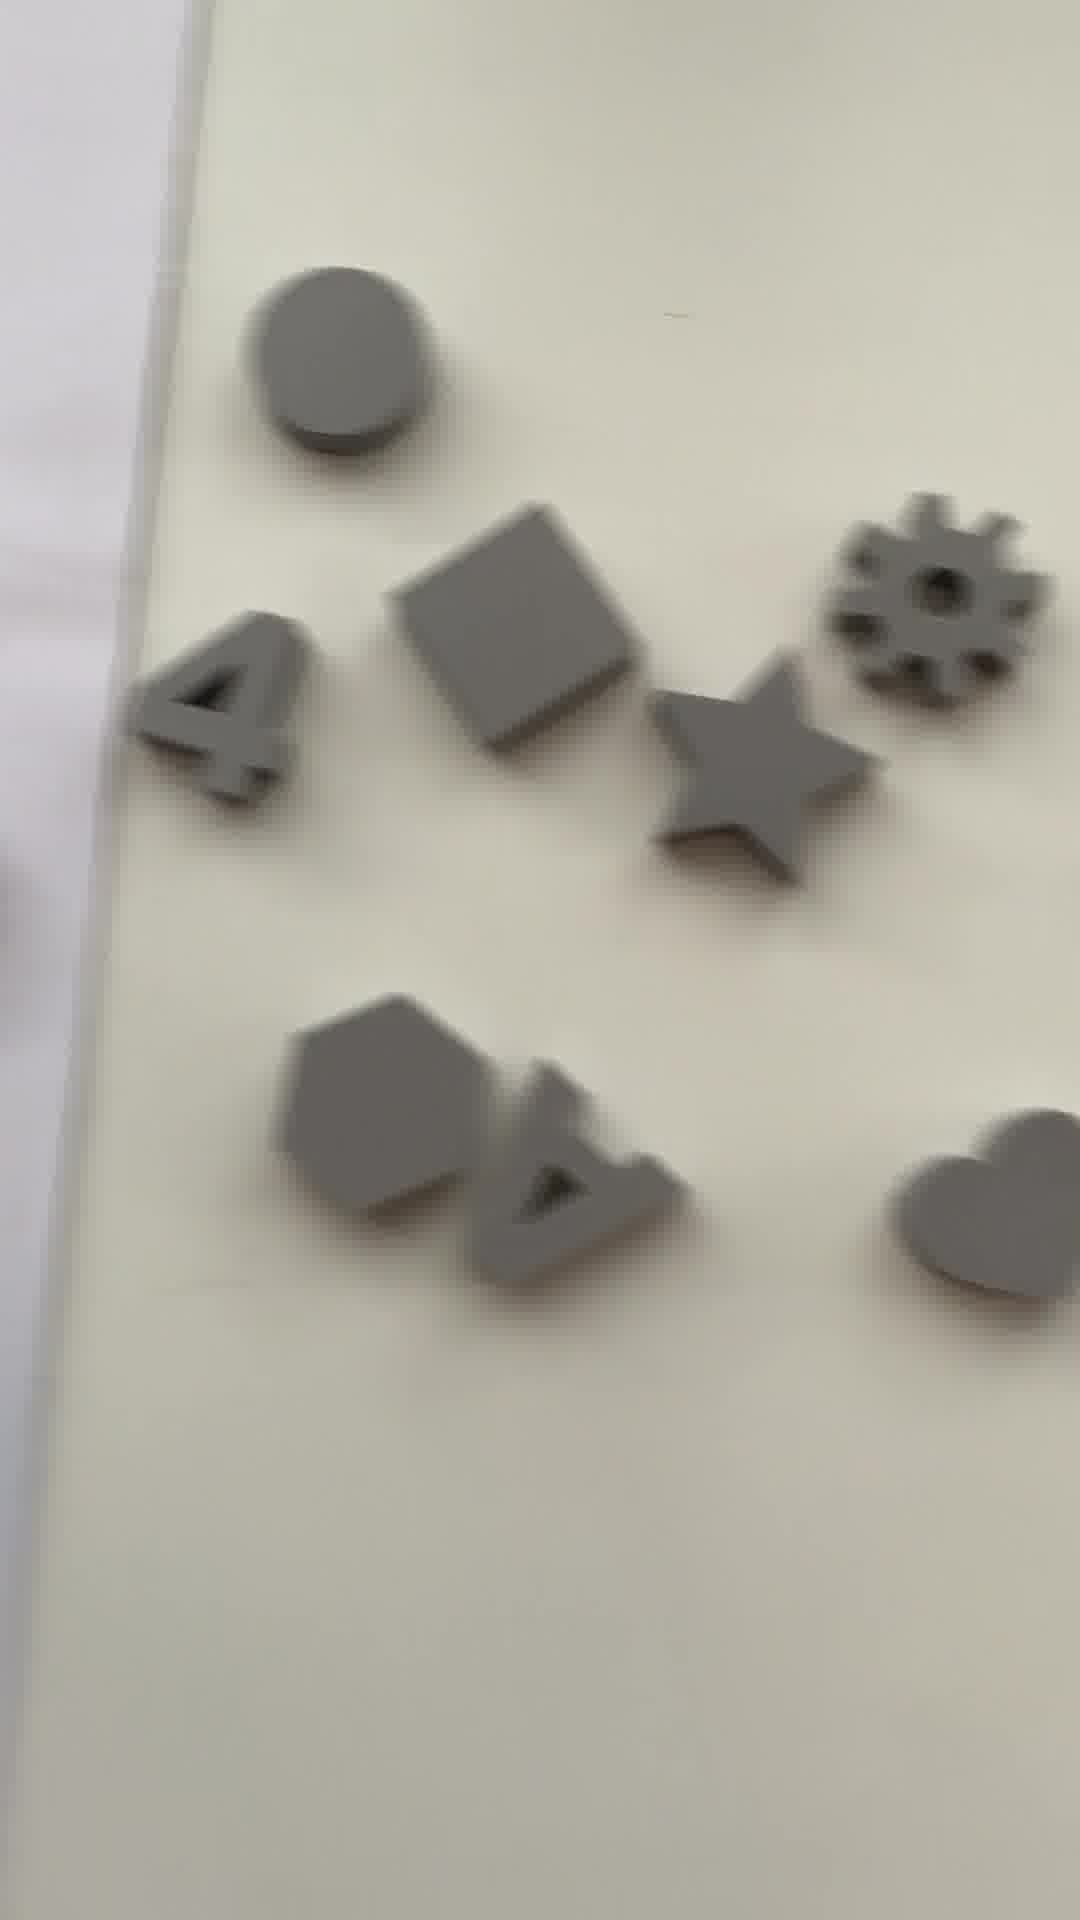Gray A-letter: (451, 1062, 682, 1305)
Gray circle: (243, 262, 435, 455)
Gray four: (121, 603, 311, 816)
Gray gear: (822, 491, 1058, 709)
Gray heart: (890, 1108, 1080, 1328)
Gray hexagon: (264, 992, 506, 1224)
Gray square: (386, 501, 645, 764)
Gray star: (642, 646, 877, 890)
